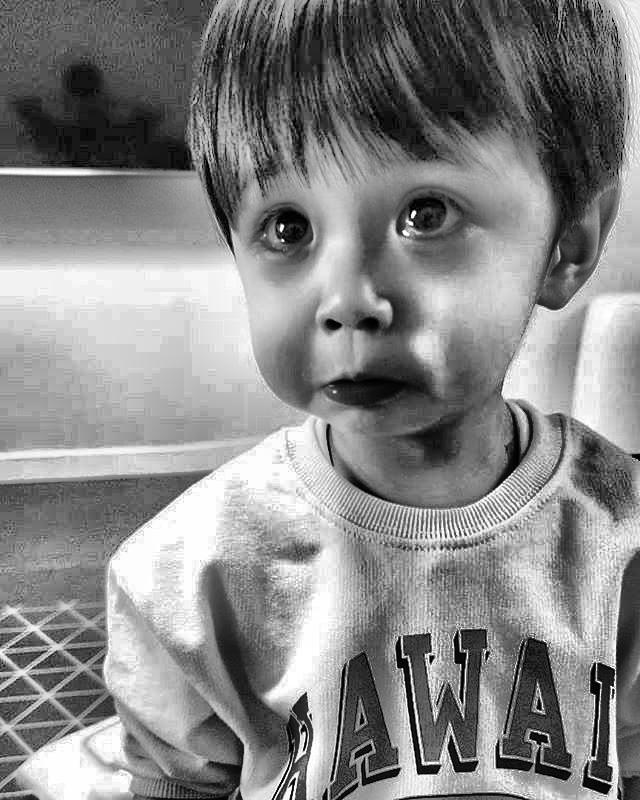sad: (217, 129, 553, 436)
